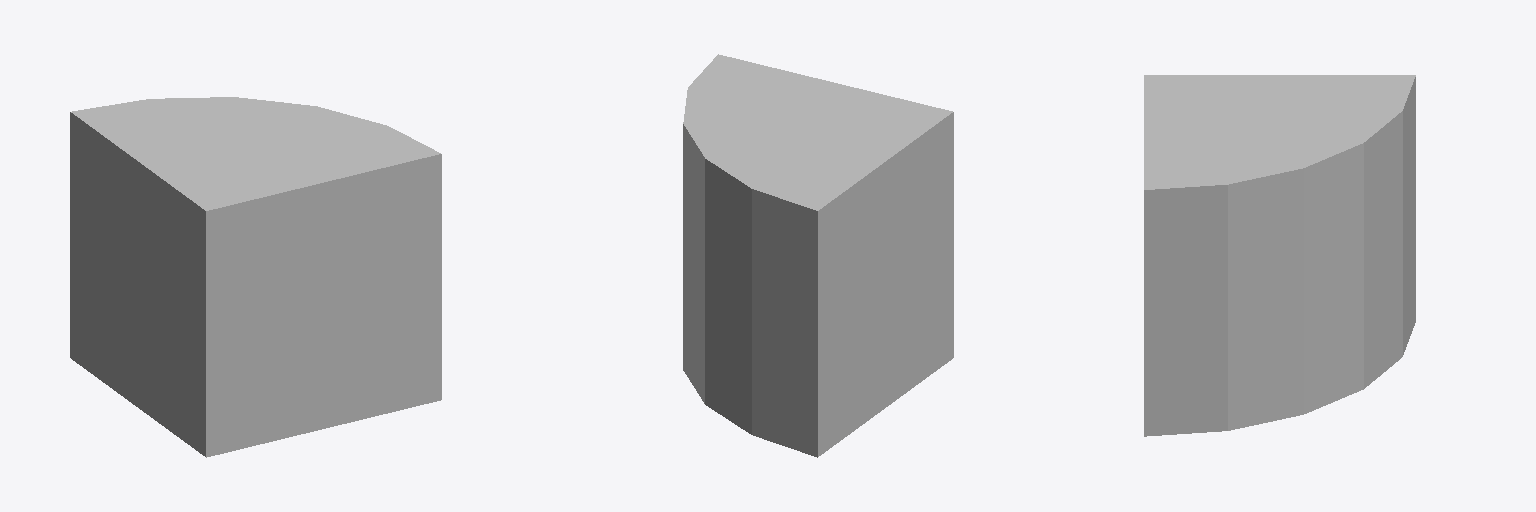
Rendered from struct_block_curved.obj.
3 views of the same model, side by side, from view 1: azimuth 30°, elevation 25°; view 2: azimuth 150°, elevation 25°; view 3: azimuth 270°, elevation 25° (orthographic).
Visible parts, largest first — view 1: struct_block_curved; view 2: struct_block_curved; view 3: struct_block_curved.
Part boxes in pixels (left/top/right/bottom): struct_block_curved: left=70, top=97, right=441, bottom=457; struct_block_curved: left=683, top=54, right=953, bottom=457; struct_block_curved: left=1144, top=75, right=1415, bottom=436.
Bounding box in the file's own units: 1 × 1 × 1.